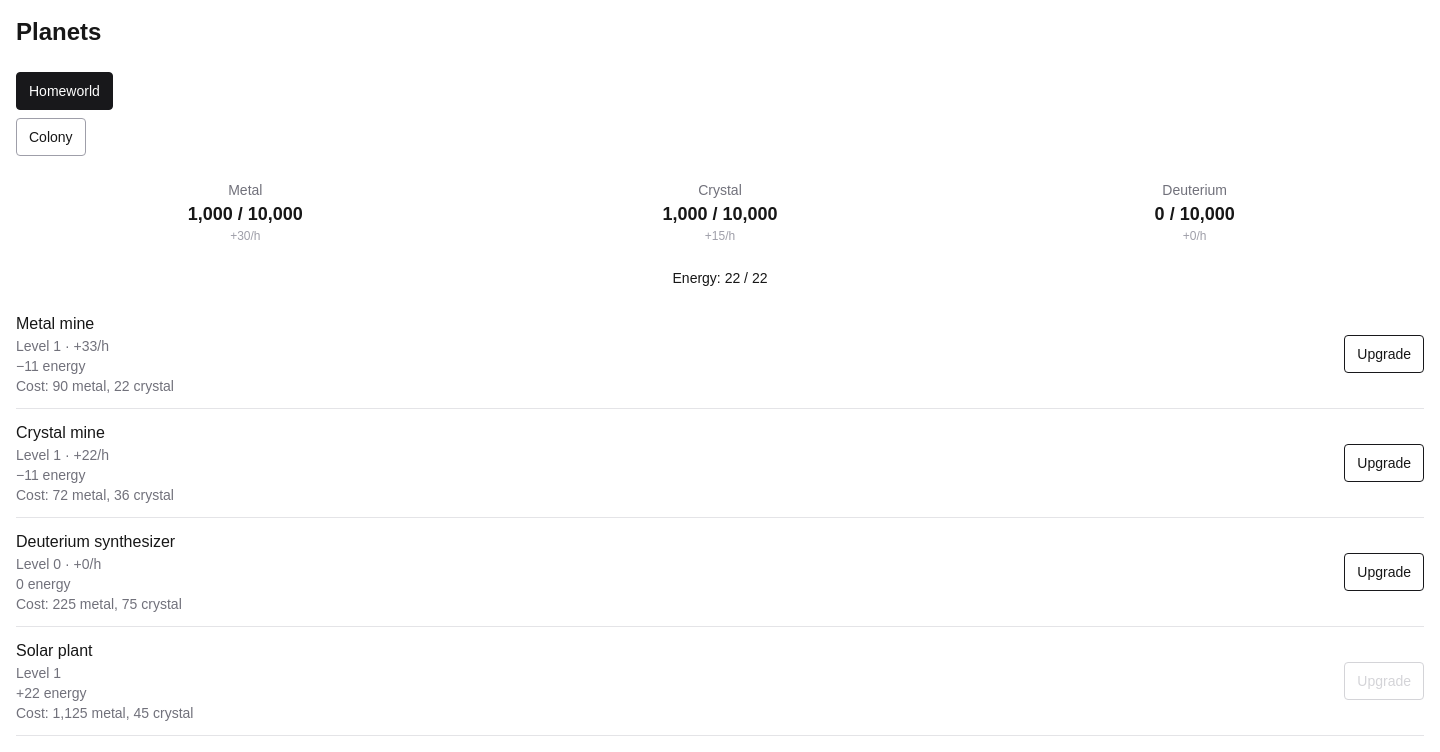
Test: PlanetsPage › updates the vault, the energy warning, and the other mines after a 200 upgrade
This screenshot has width=1440, height=752.
Expected: the text "Metal mine" is shown, x1=16 y1=315 x2=94 y2=332
What coordinates should you click on to do the following:
click the button with aria-label "Upgrade Metal mine"
I would click on:
 (1384, 354)
Its box is x1=1344 y1=335 x2=1424 y2=373.
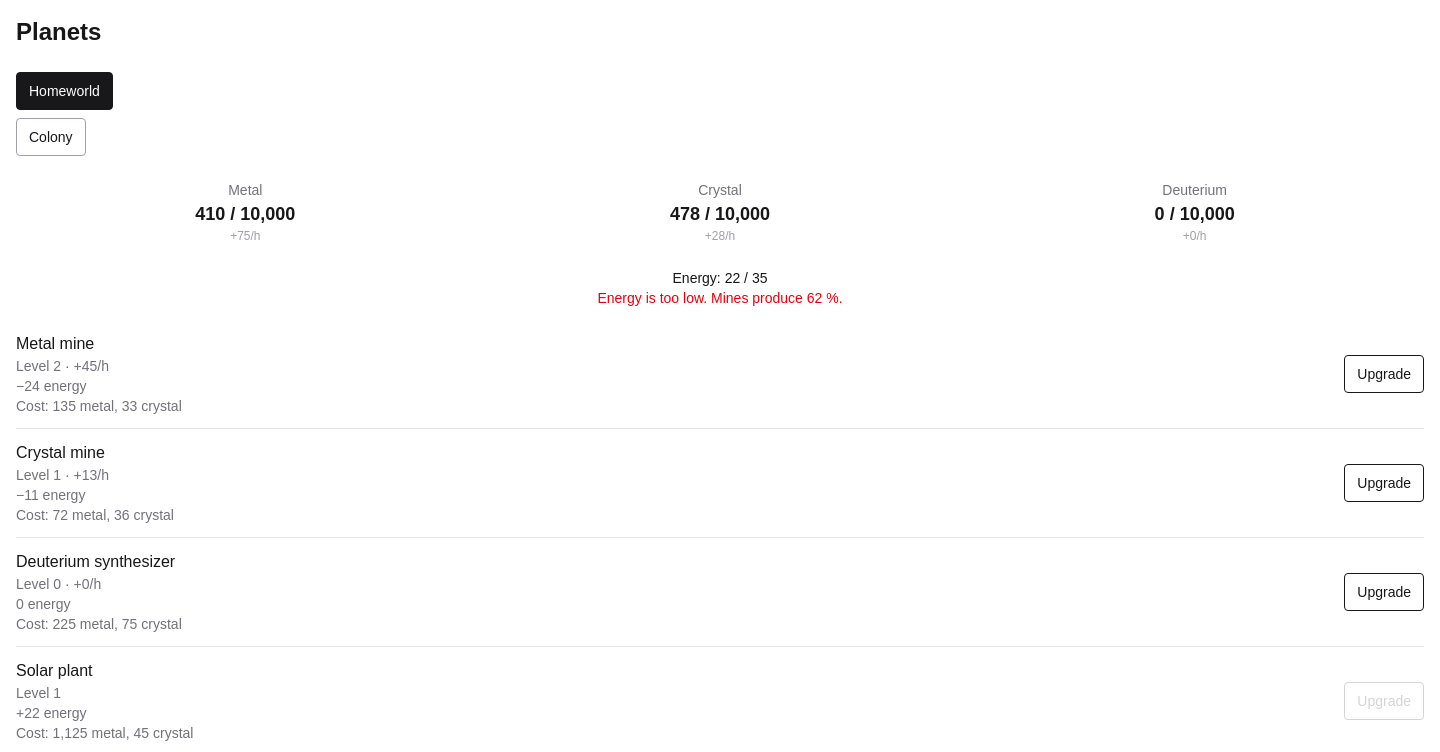
Now the text "410 / 10,000" is shown, box x1=195 y1=204 x2=295 y2=224
Now the text "Energy: 22 / 35" is shown, box x1=672 y1=270 x2=768 y2=286
Now the text "Energy is too low. Mines produce 62 %." is shown, box x1=597 y1=290 x2=843 y2=306
